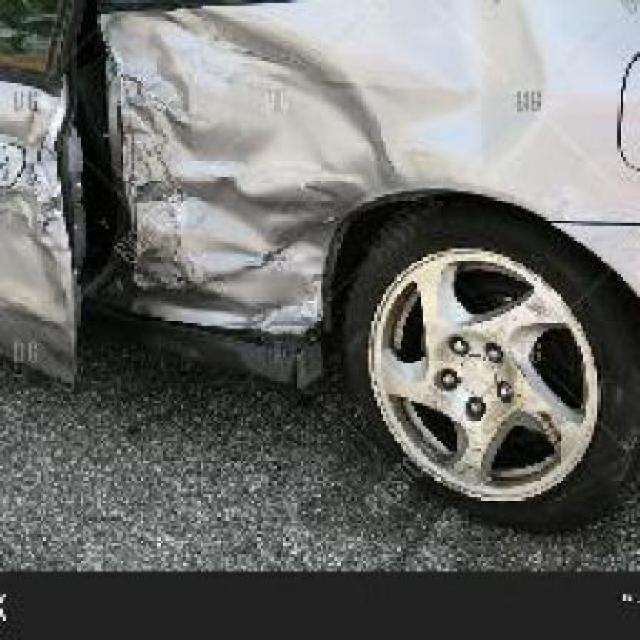damaged-door: (98, 6, 374, 334), (0, 3, 86, 397)
